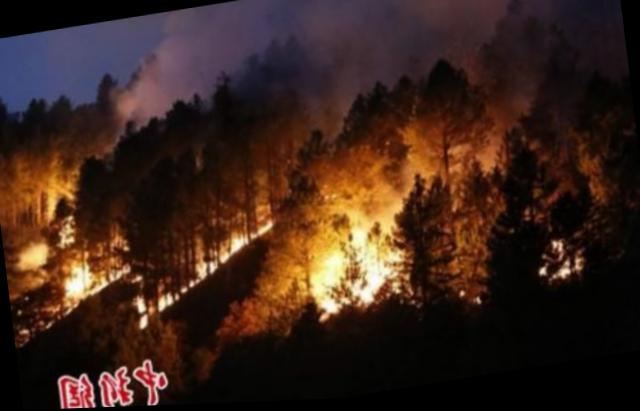fire: (127, 196, 287, 332), (294, 198, 424, 327), (21, 198, 132, 327), (530, 234, 592, 290)
